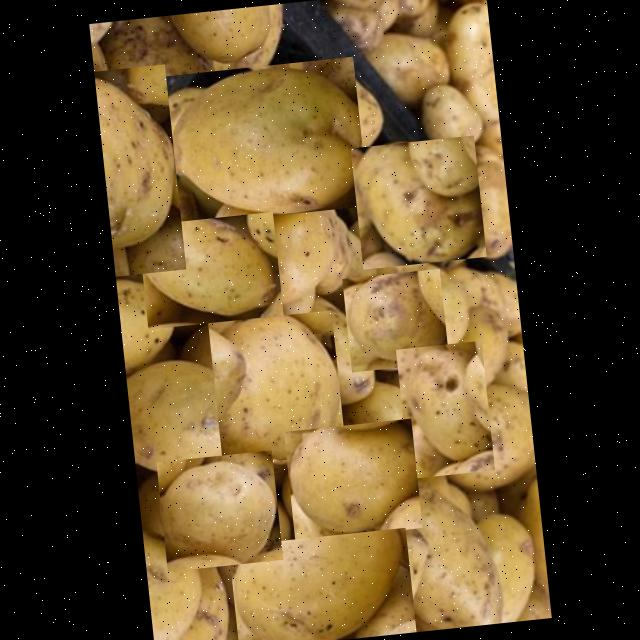Potato: (164, 55, 368, 224), (208, 309, 346, 465), (228, 526, 416, 640), (92, 63, 186, 275), (350, 134, 486, 268), (137, 210, 283, 328), (283, 417, 422, 540), (156, 448, 283, 570), (396, 340, 494, 478), (342, 267, 449, 371)
